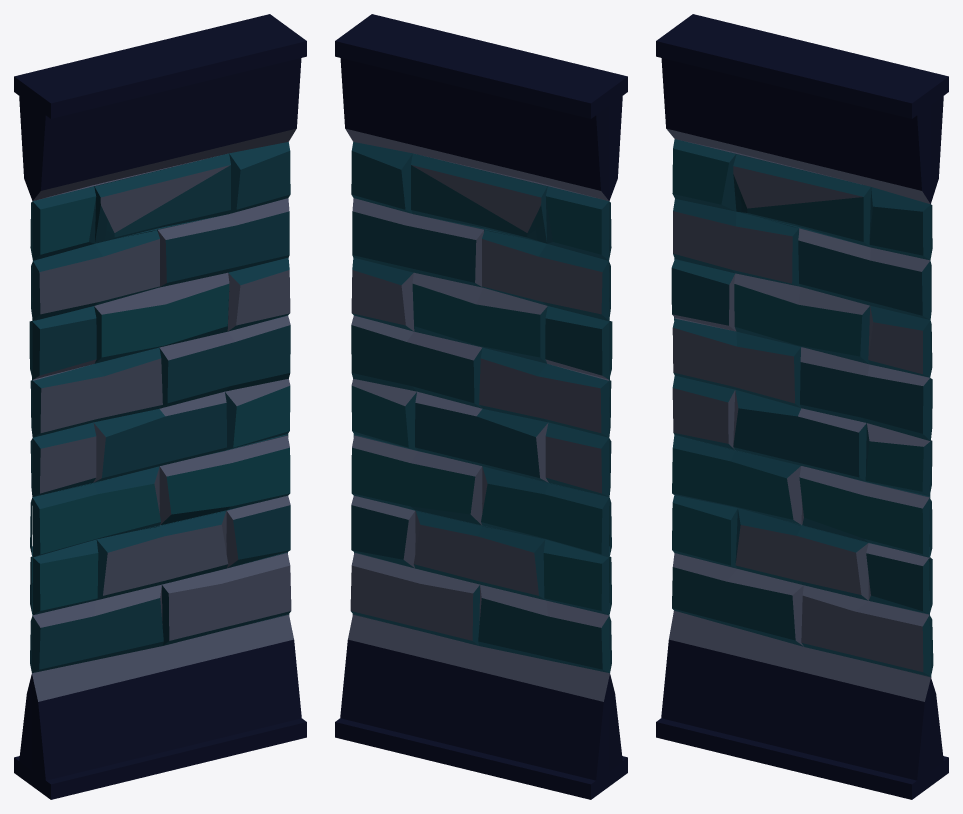
The model's file is Tembok 100fbx 1.fbx.
3 renders of one model, left to right at view 1: azimuth 30°, elevation 25°; view 2: azimuth 150°, elevation 25°; view 3: azimuth 330°, elevation 25°, orthographic.
Visible parts, largest first — view 1: Tembok 100 Cm; view 2: Tembok 100 Cm; view 3: Tembok 100 Cm.
Part boxes in pixels (<box>): Tembok 100 Cm: <box>14,14,306,799</box>; Tembok 100 Cm: <box>335,14,627,799</box>; Tembok 100 Cm: <box>656,14,948,799</box>.
Size of the model in its own units: 201 by 520 by 50.01.
